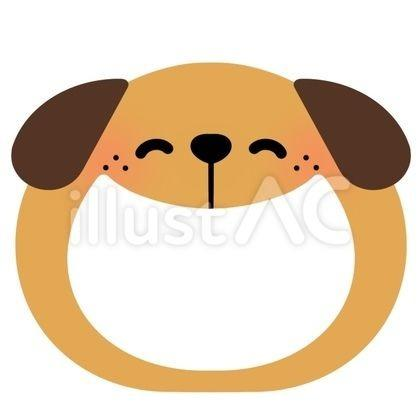non-dog: (10, 61, 411, 393)
